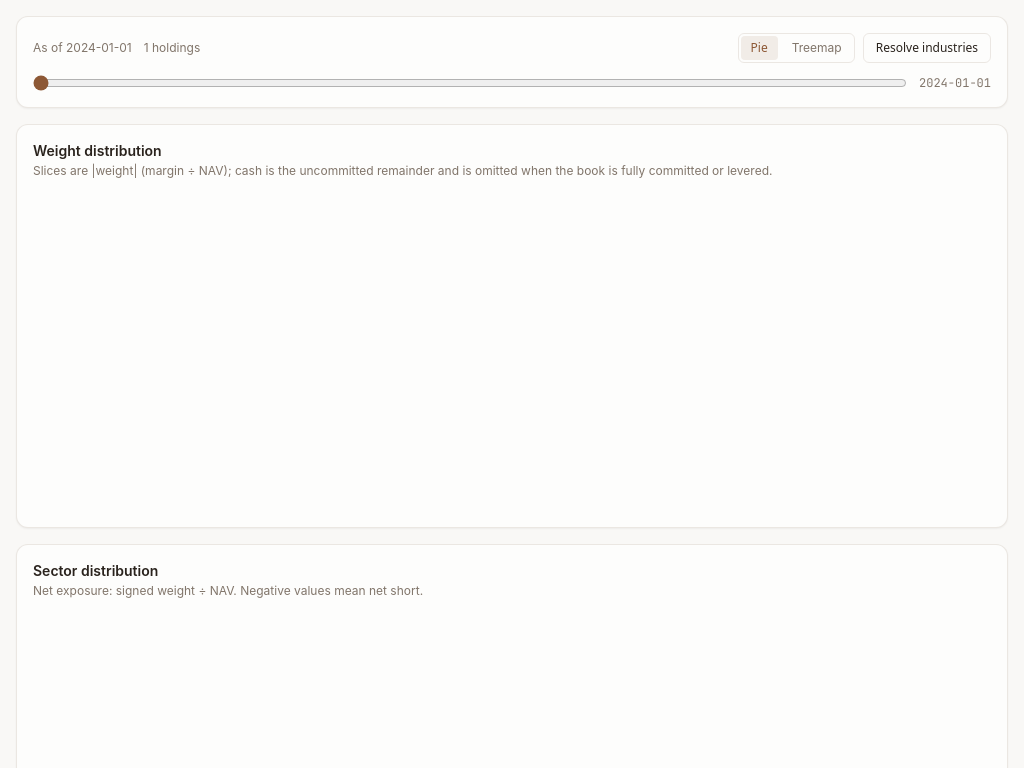
Test case: PositionsTab › shows an inline retryable error when sector resolution fails
Later steps or results of the test are not shown.
Step 1. Click the button "Resolve industries" → click(927, 48), box top-left (863, 33), bottom-right (991, 63)
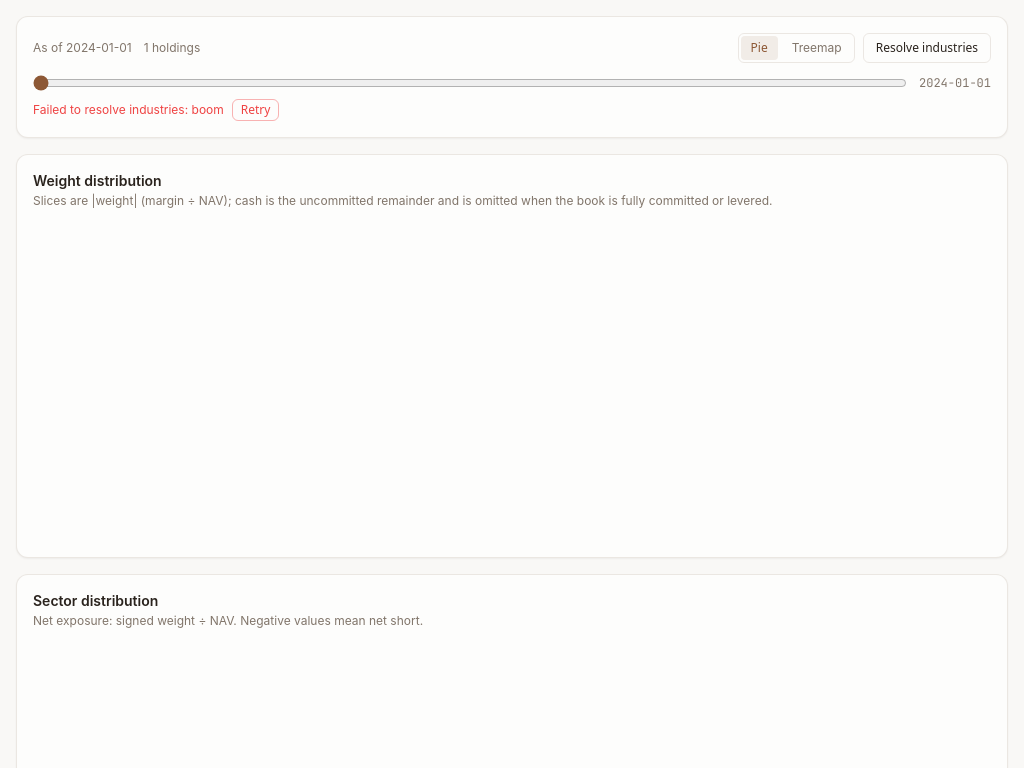
Now the text "Failed to resolve industries: boom" is shown, box top-left (33, 102), bottom-right (224, 118)
